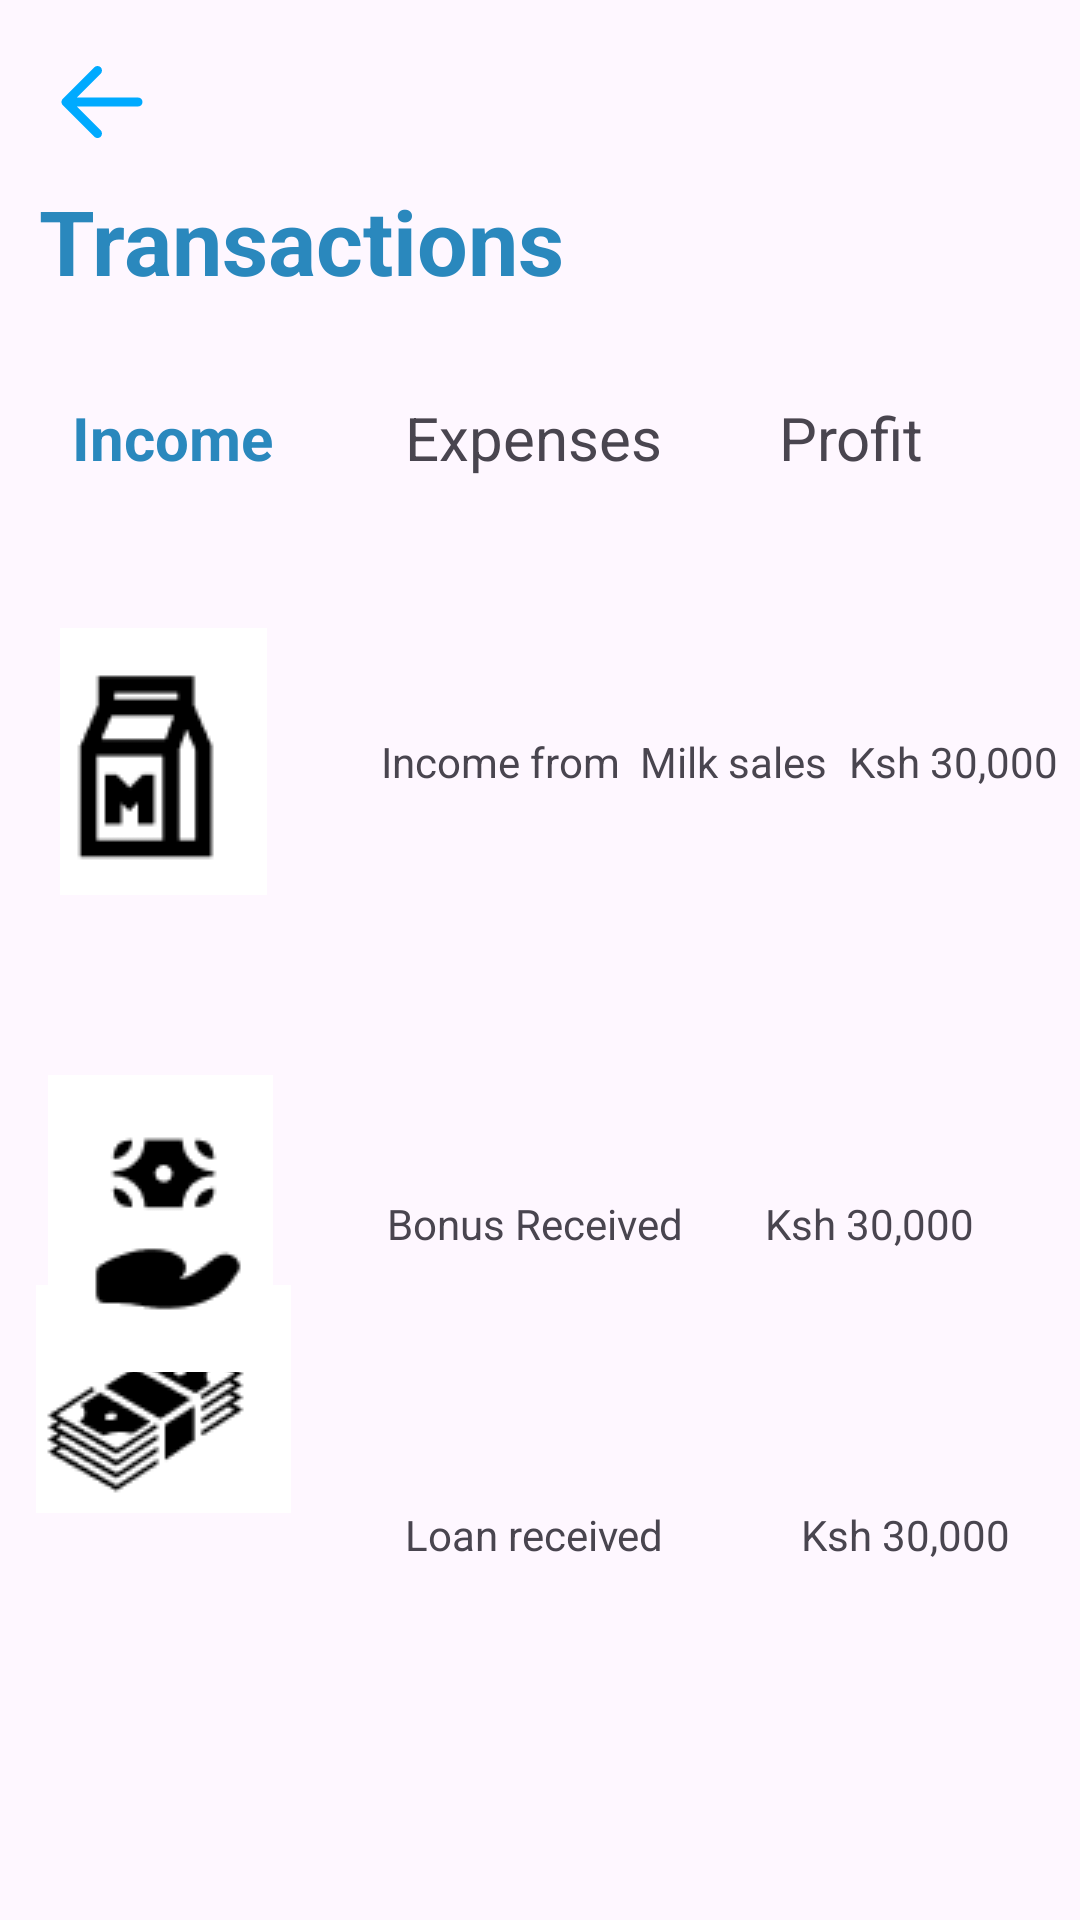

Where icons sit on this 1080×1920 app screen, as (x1, y1, x2, y2):
arrow: (61, 66, 143, 138)
money: (47, 1372, 244, 1493)
